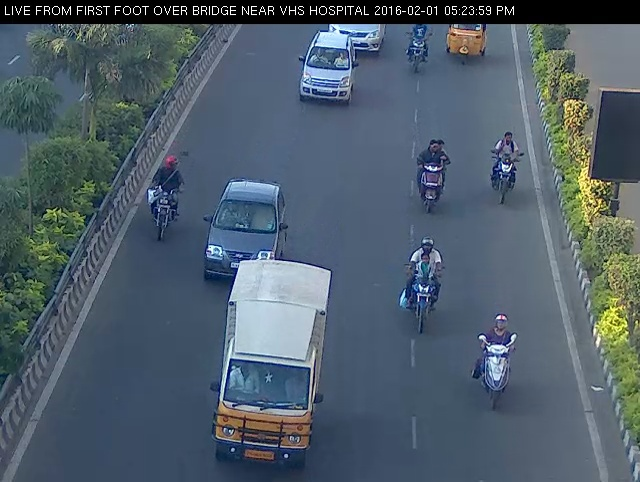Auto: (203, 254, 339, 476), (442, 16, 490, 70)
Car: (192, 160, 298, 292), (292, 32, 365, 111), (318, 15, 390, 56), (320, 14, 388, 56)
Person: (466, 301, 528, 423), (391, 225, 450, 334), (138, 146, 189, 251), (410, 127, 456, 221), (485, 122, 527, 220), (398, 18, 435, 83)
